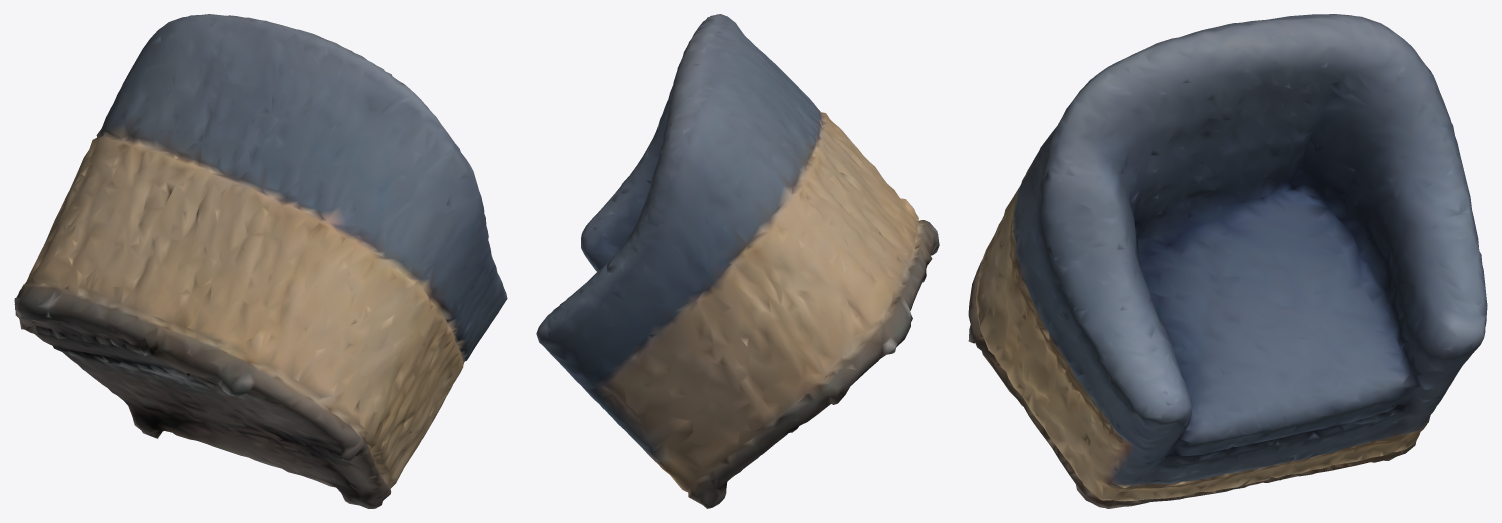
3 views of the same model, side by side, from view 1: azimuth 30°, elevation 25°; view 2: azimuth 150°, elevation 25°; view 3: azimuth 270°, elevation 25° (orthographic). The views are drawn at different scales.
Parts seen in each view (by area): view 1: geometry_0; view 2: geometry_0; view 3: geometry_0.
Part boxes in pixels (box(x1,y1,x2,y2)): geometry_0: box(14, 14, 507, 508); geometry_0: box(536, 14, 939, 508); geometry_0: box(968, 14, 1487, 508).
Bounding box in the file's own units: 0.7978 × 0.8 × 0.7958.
